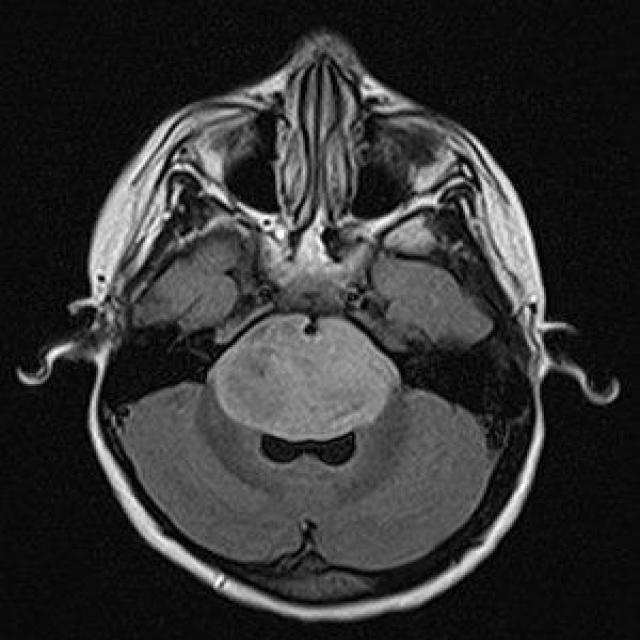Tumor: (207, 315, 403, 442)
